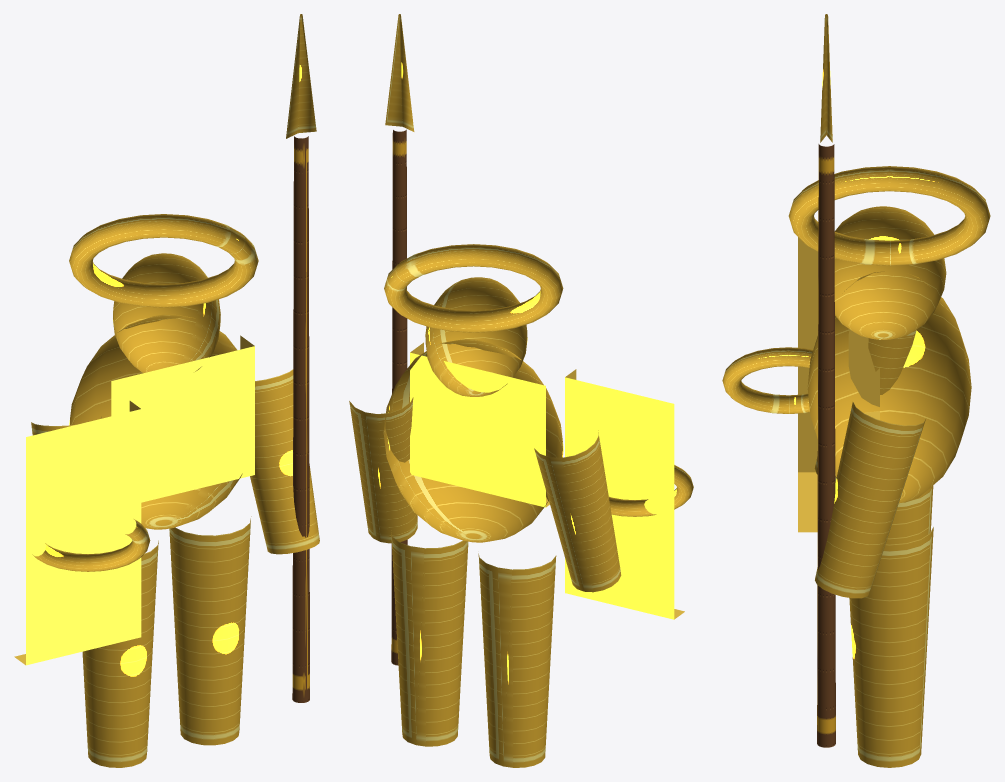
Rendered from surya_guardian.glb.
3 views of the same model, side by side, from view 1: azimuth 30°, elevation 25°; view 2: azimuth 150°, elevation 25°; view 3: azimuth 270°, elevation 25° (orthographic). The views are drawn at different scales.
Visible parts, largest first — view 1: Node_SuryaGuardian; view 2: Node_SuryaGuardian; view 3: Node_SuryaGuardian.
Boxes of the visible parts, bbox=[...] form: Node_SuryaGuardian: bbox=[14, 14, 319, 767]; Node_SuryaGuardian: bbox=[349, 14, 693, 767]; Node_SuryaGuardian: bbox=[722, 14, 990, 767].
Size of the model in its own units: 1.21 by 2.7 by 0.85.
2 materials, 2 textured.
